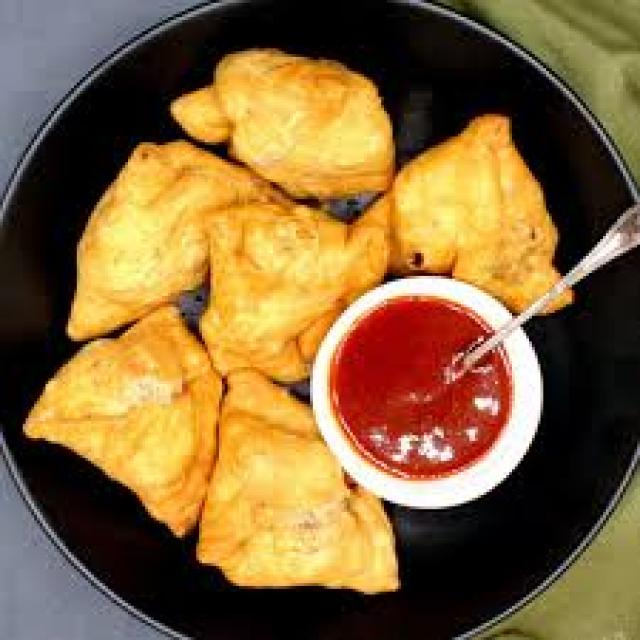SAMOSA: (196, 370, 398, 592), (26, 304, 219, 535), (71, 139, 284, 338), (71, 142, 284, 338), (390, 117, 569, 313), (125, 142, 315, 319), (171, 48, 393, 196), (199, 205, 384, 375)
